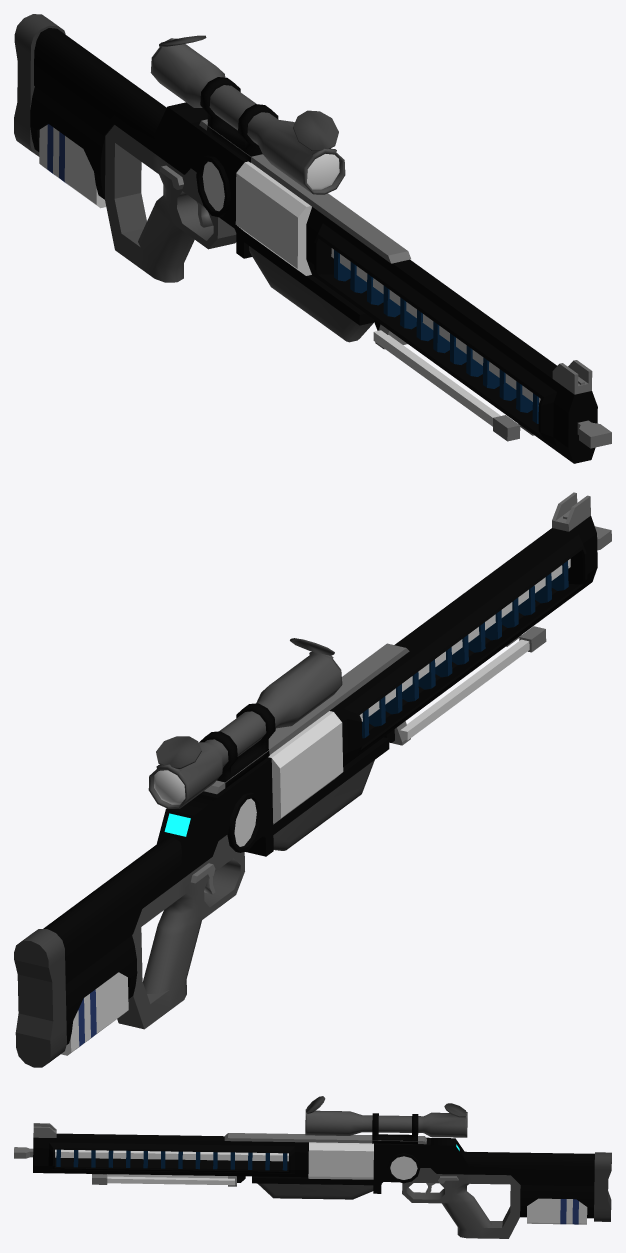
The model's file is fprig_scifirifle.fbx.
The picture shows the model from 3 angles, top to bottom: view 1: azimuth 30°, elevation 25°; view 2: azimuth 150°, elevation 25°; view 3: azimuth 270°, elevation 25°; orthographic projection. The views are drawn at different scales.
Parts seen in each view (by area): view 1: barrel?, scope, grip, outer sheet 1, breaker, chamber?, rails, picotini, bat holder, BIPOD, front grip, shoulder rest (+3 smaller); view 2: barrel?, scope, outer sheet 1, grip, shoulder rest, breaker, chamber?, rails, BIPOD, picotini, bat holder, battery (+3 smaller); view 3: barrel?, outer sheet 1, scope, grip, breaker, chamber?, barrel, front grip, BIPOD, battery, bat holder, picotini (+3 smaller).
Part boxes in pixels (x1=…): barrel?: x1=306, y1=207, x2=597, y2=463; scope: x1=150, y1=35, x2=345, y2=194; grip: x1=105, y1=125, x2=236, y2=282; outer sheet 1: x1=34, y1=28, x2=207, y2=174; breaker: x1=190, y1=121, x2=374, y2=325; chamber?: x1=235, y1=161, x2=311, y2=275; rails: x1=334, y1=250, x2=538, y2=423; picotini: x1=199, y1=119, x2=410, y2=263; bat holder: x1=30, y1=86, x2=105, y2=199; BIPOD: x1=373, y1=320, x2=534, y2=441; front grip: x1=249, y1=246, x2=373, y2=342; shoulder rest: x1=14, y1=14, x2=65, y2=156; barrel?: x1=330, y1=516, x2=597, y2=766; scope: x1=148, y1=638, x2=342, y2=808; outer sheet 1: x1=43, y1=794, x2=218, y2=983; grip: x1=117, y1=835, x2=244, y2=1029; shoulder rest: x1=14, y1=929, x2=66, y2=1067; breaker: x1=200, y1=737, x2=389, y2=856; chamber?: x1=268, y1=711, x2=343, y2=824; rails: x1=362, y1=561, x2=568, y2=738; BIPOD: x1=384, y1=626, x2=546, y2=745; picotini: x1=204, y1=643, x2=409, y2=794; bat holder: x1=65, y1=935, x2=137, y2=1044; battery: x1=61, y1=972, x2=128, y2=1055; barrel?: x1=33, y1=1133, x2=308, y2=1177; outer sheet 1: x1=430, y1=1138, x2=594, y2=1185; scope: x1=305, y1=1096, x2=467, y2=1144; grip: x1=402, y1=1168, x2=520, y2=1238; breaker: x1=252, y1=1137, x2=430, y2=1193; chamber?: x1=308, y1=1142, x2=373, y2=1179; barrel: x1=14, y1=1147, x2=288, y2=1161; front grip: x1=258, y1=1183, x2=373, y2=1199; BIPOD: x1=92, y1=1174, x2=245, y2=1186; battery: x1=527, y1=1198, x2=587, y2=1224; bat holder: x1=520, y1=1185, x2=594, y2=1218; picotini: x1=224, y1=1133, x2=426, y2=1144.
Size of the model in its own units: 6.52 by 32.37 by 127.
